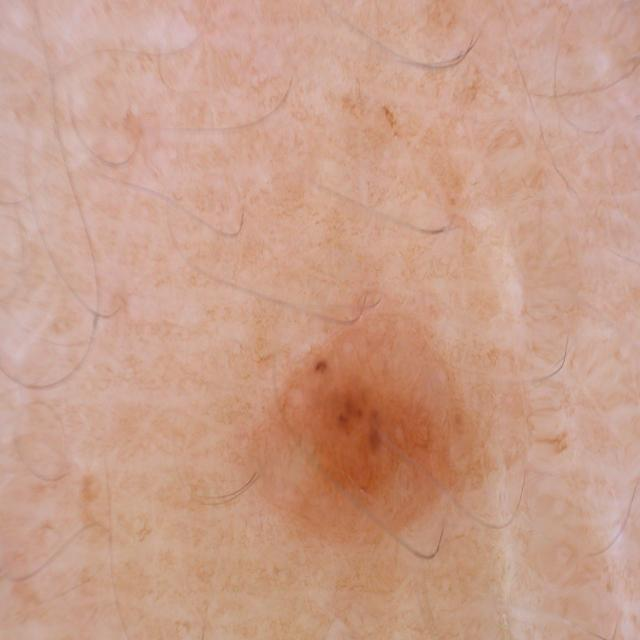Melanoma: (265, 306, 450, 516)
